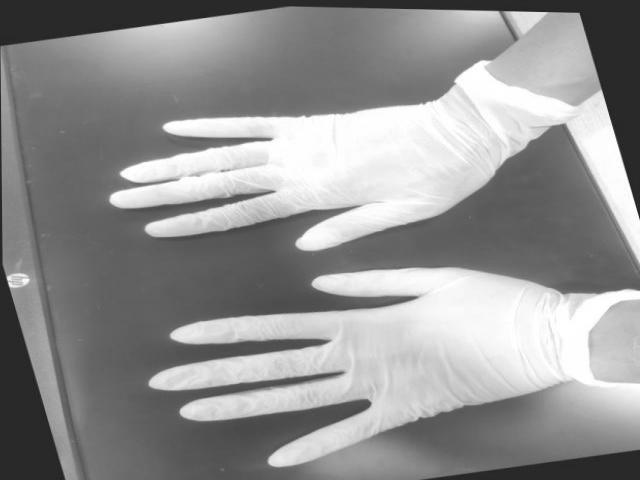gloved: (146, 262, 546, 467), (109, 103, 506, 252)
